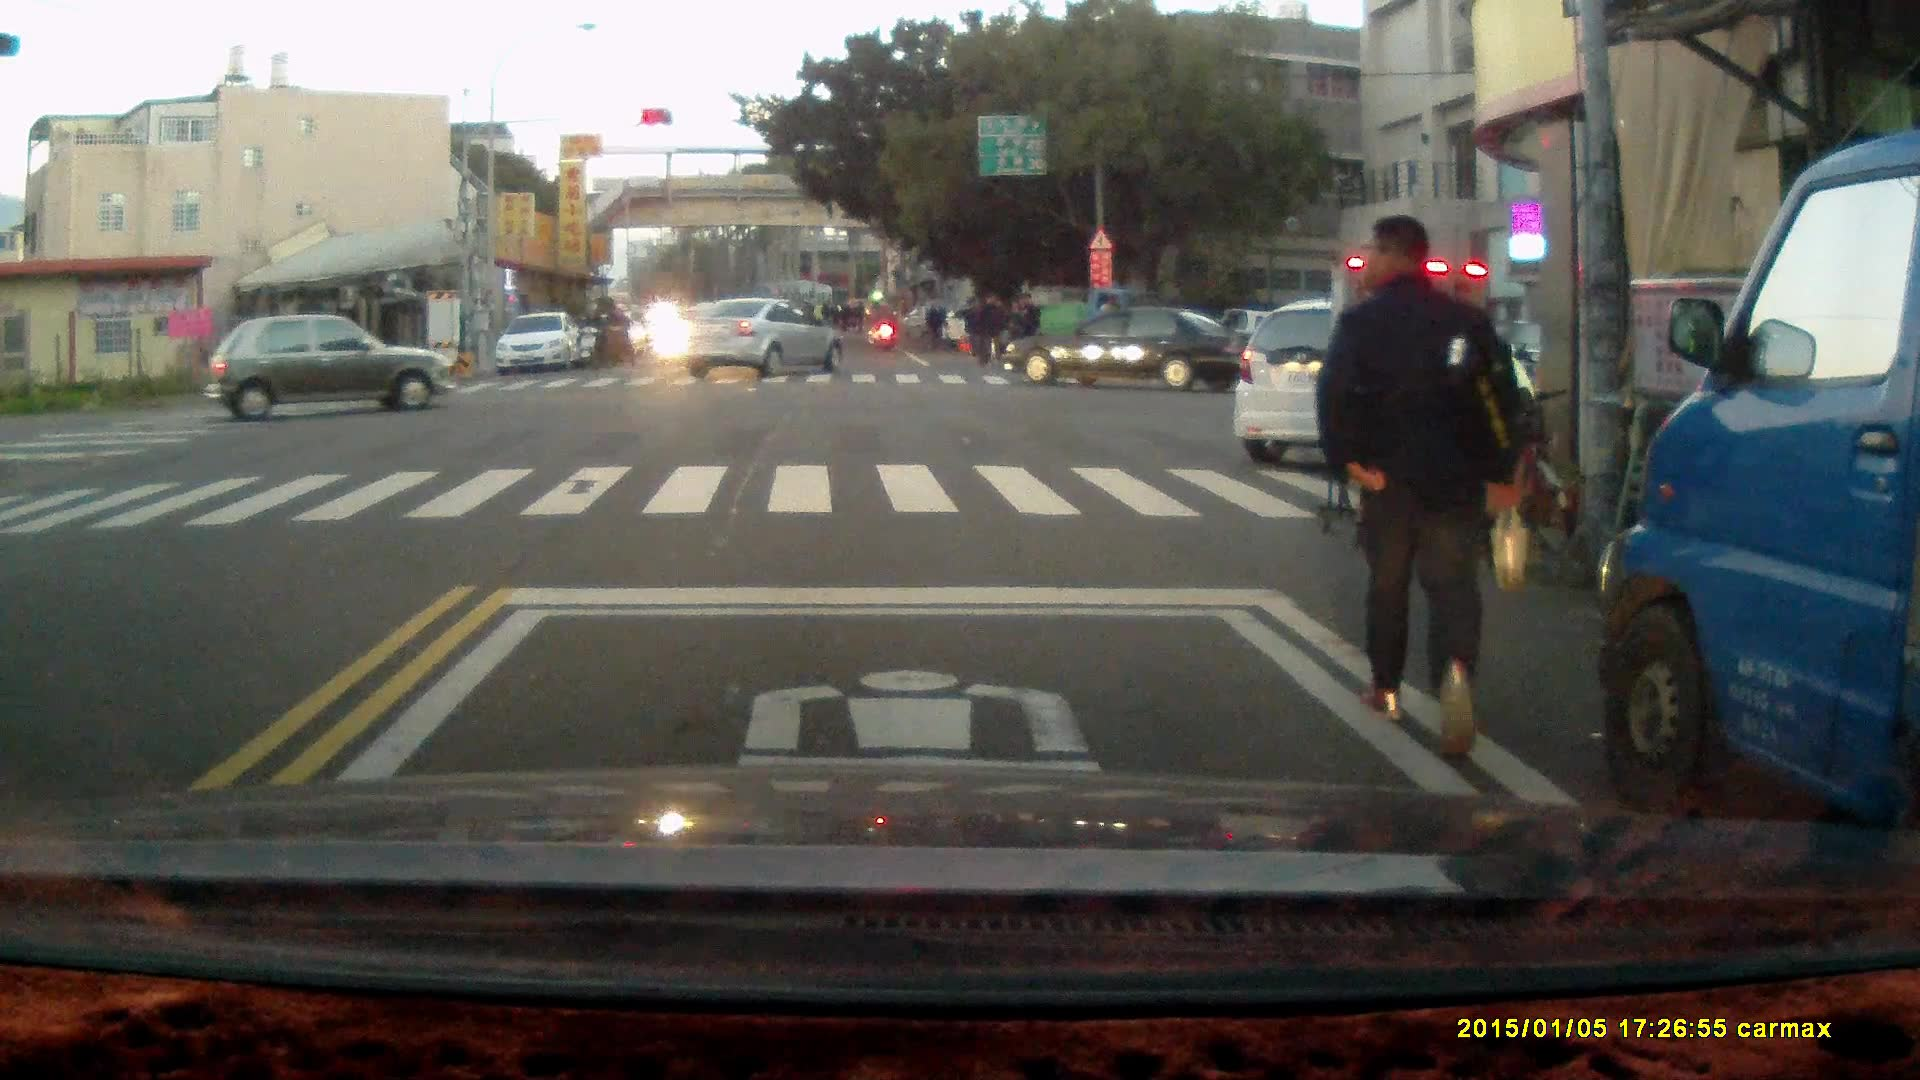pedestrian: (1309, 212, 1525, 757), (975, 291, 1006, 370), (1011, 291, 1040, 369), (926, 295, 947, 353)
rider: (576, 301, 608, 368), (603, 302, 632, 368)
vehicle: (1598, 132, 1920, 848), (1233, 296, 1533, 459), (206, 315, 456, 427), (1015, 304, 1244, 393), (654, 297, 847, 381), (1002, 284, 1178, 367), (498, 313, 586, 377)
